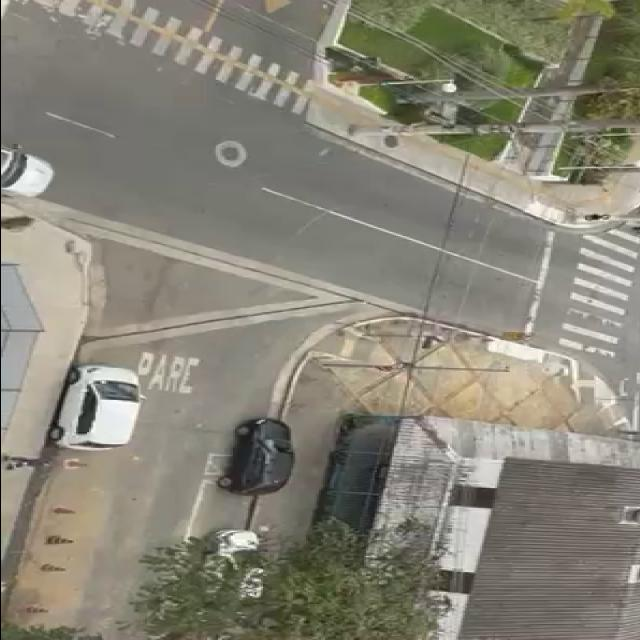car: (183, 524, 287, 640), (40, 362, 156, 454), (215, 412, 307, 499), (0, 140, 60, 207)
